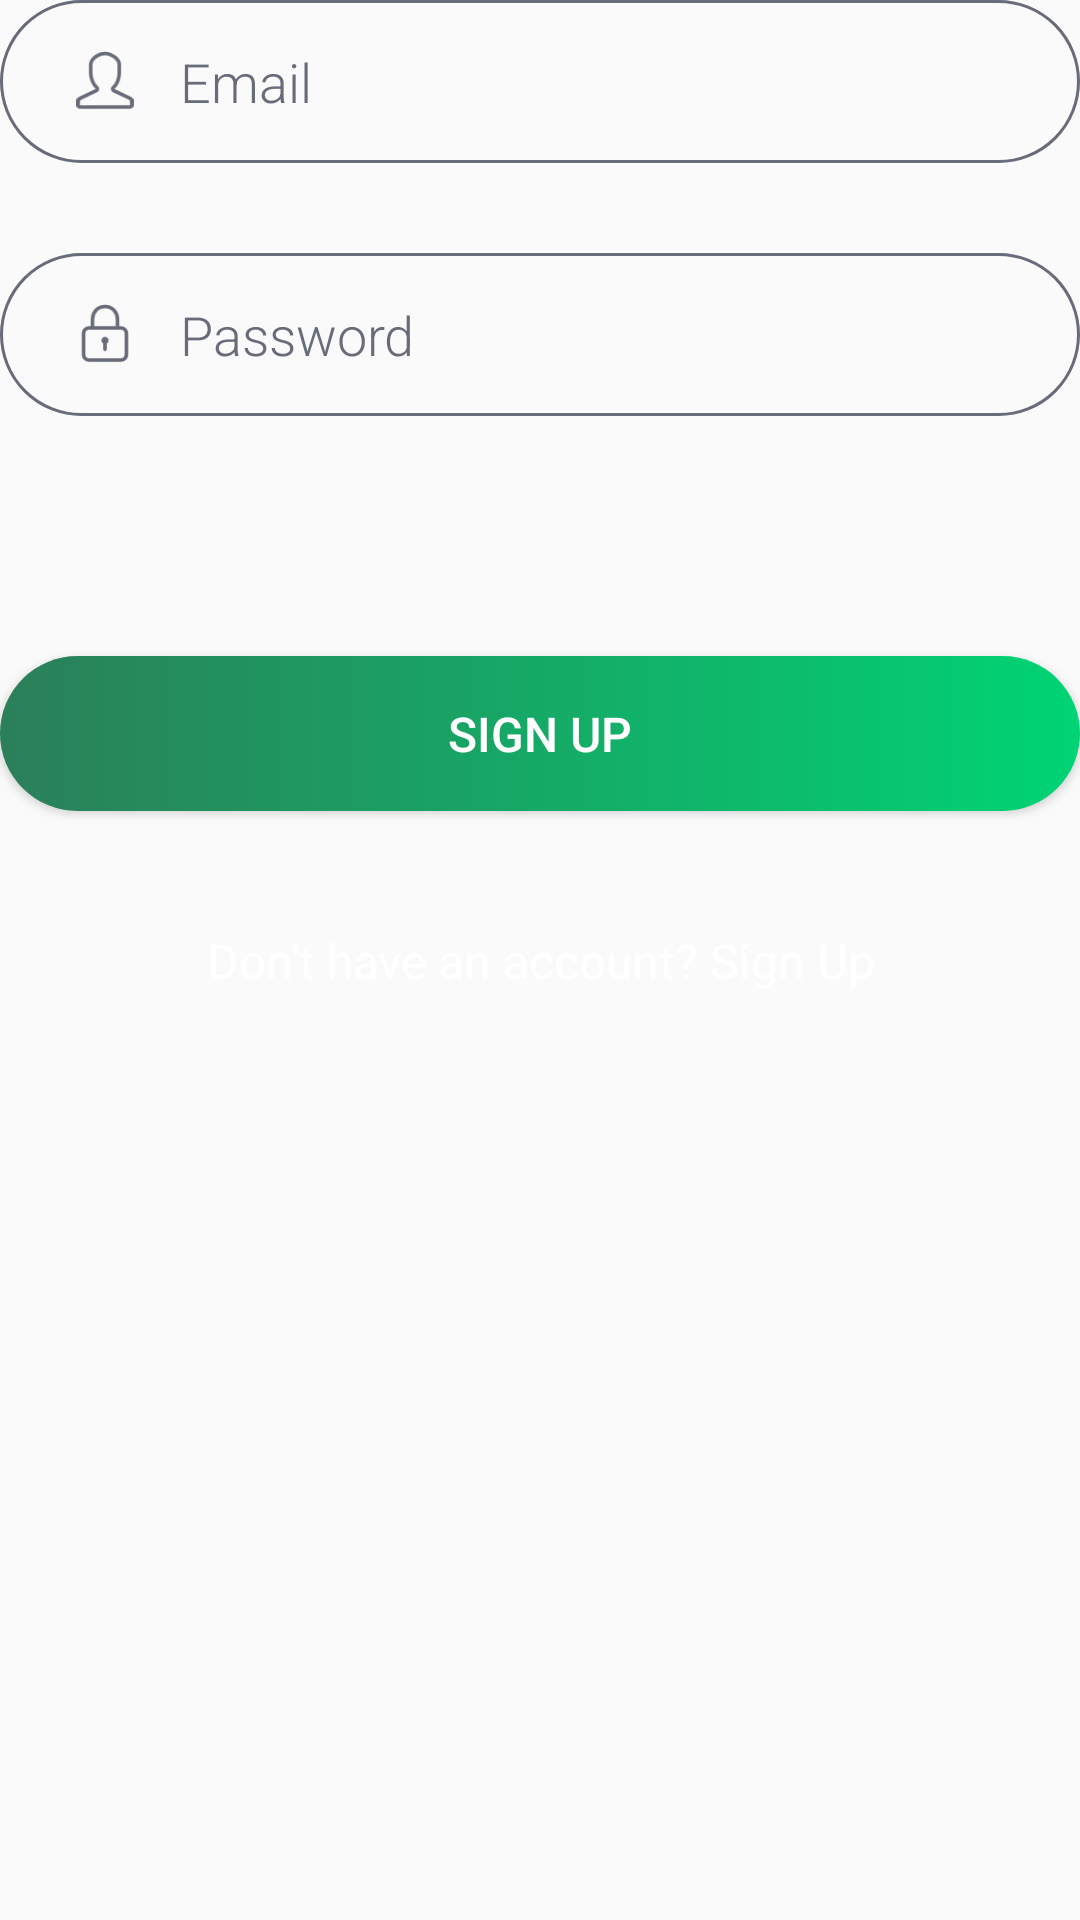

Locate icon controls on the screen. Image size 1080 x 1920, boxes as (x1, y1, x2, y2).
username: (76, 51, 134, 109)
